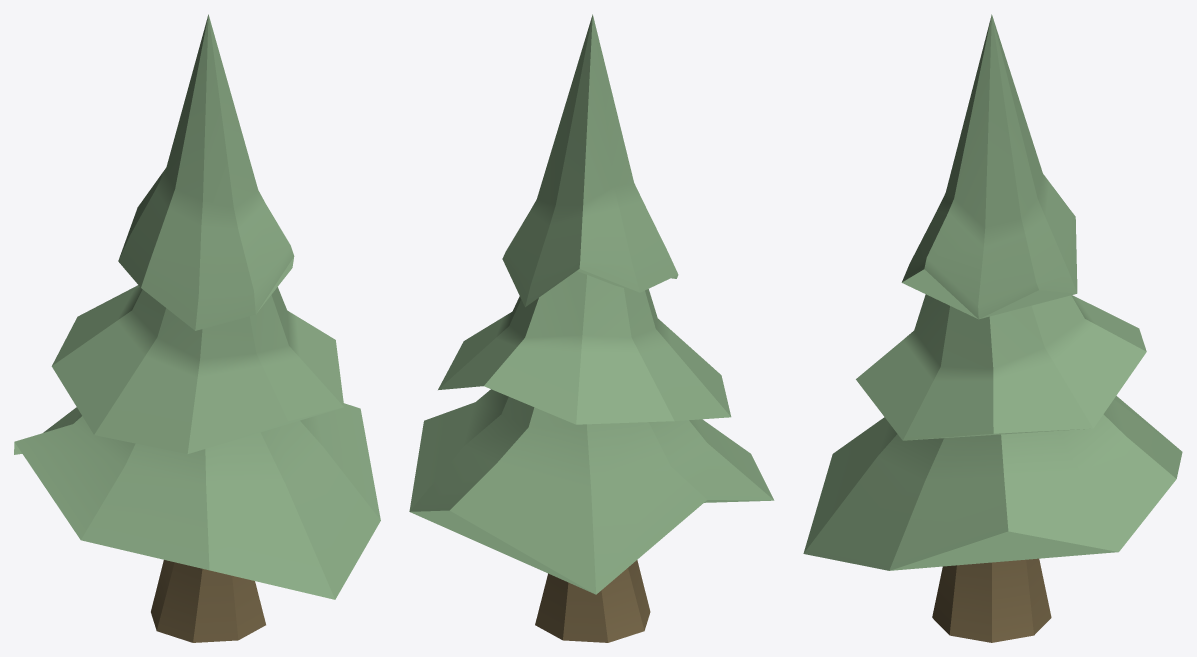
Rendered from PineTree.fbx.
The picture shows the model from 3 angles, left to right: view 1: azimuth 30°, elevation 25°; view 2: azimuth 150°, elevation 25°; view 3: azimuth 270°, elevation 25°; orthographic projection.
Visible parts, largest first — view 1: Foliage_1, Foliage_3, Foliage_2, Root; view 2: Foliage_1, Foliage_3, Foliage_2, Root; view 3: Foliage_1, Foliage_3, Foliage_2, Root.
Part boxes in pixels (x1,y1,x2,y2): Foliage_1: (14,403,380,599); Foliage_3: (51,285,344,454); Foliage_2: (118,14,294,330); Root: (151,560,265,642); Foliage_1: (409,389,774,594); Foliage_3: (438,271,731,424); Foliage_2: (502,14,678,307); Root: (535,560,650,642); Foliage_1: (803,396,1182,570); Foliage_3: (856,294,1146,440); Foliage_2: (901,14,1077,319); Root: (932,558,1051,642).
Bounding box in the file's own units: 11.97 × 21.94 × 12.49.
